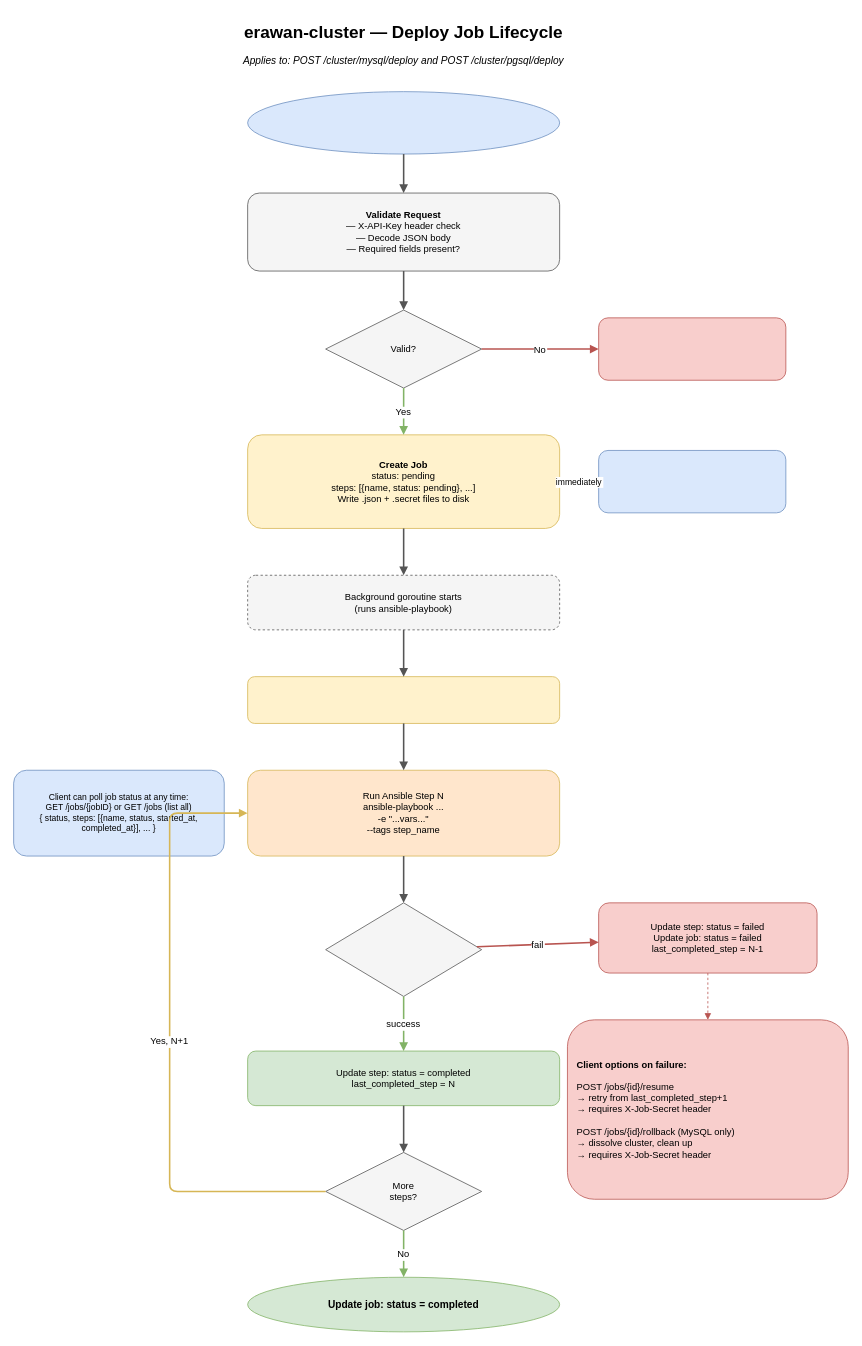
This 862x1346 diagram has some shape labels left out. The shapes that lost their labels are listed below. From the top down, each one's box as (x1, y1, x2, y2) in pixels, then its label:
(247, 91, 560, 154): Client POST /cluster/{type}/deploy
(598, 317, 786, 380): 400 Bad Request { error: "..." }
(598, 450, 786, 513): 202 Accepted { job_id, secret } (response is immediate)
(247, 676, 560, 723): Update job: status = running
(325, 902, 482, 996): Step result?
